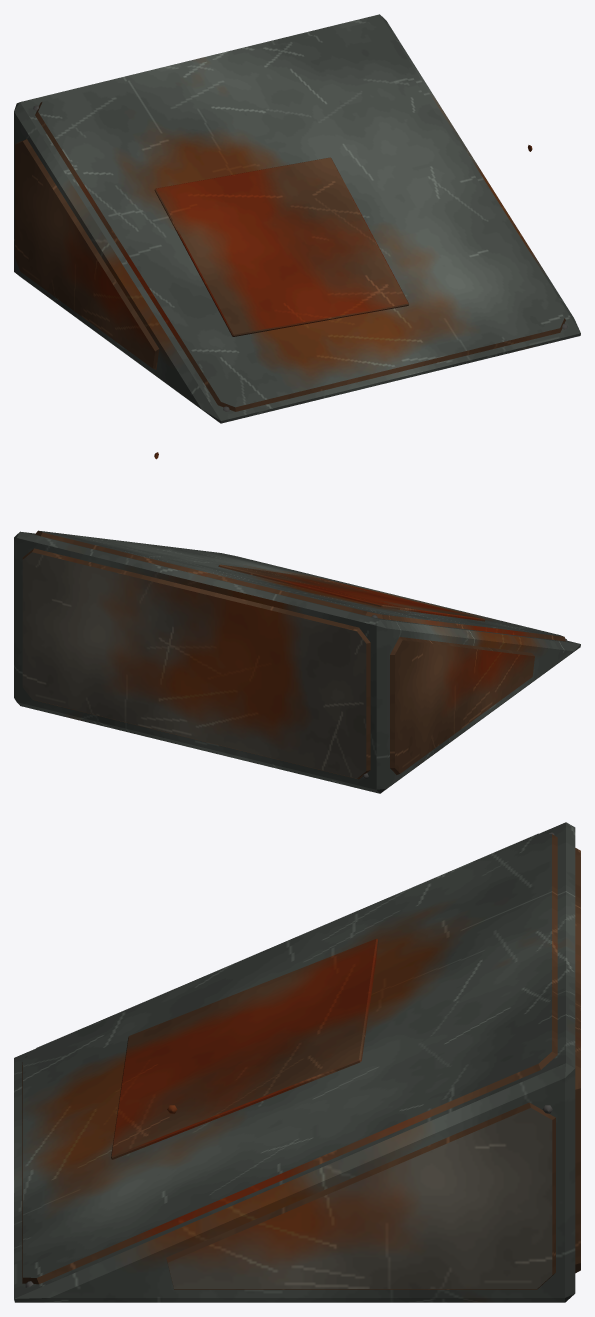
File: R4B_HalfWedge.glb
The picture shows the model from 3 angles, top to bottom: view 1: azimuth 30°, elevation 25°; view 2: azimuth 150°, elevation 25°; view 3: azimuth 270°, elevation 25°; orthographic projection. The views are drawn at different scales.
Visible parts, largest first — view 1: R4B_HalfWedge; view 2: R4B_HalfWedge; view 3: R4B_HalfWedge.
Boxes of the visible parts, x1=… form: R4B_HalfWedge: x1=14, y1=14, x2=580, y2=423; R4B_HalfWedge: x1=14, y1=452, x2=580, y2=793; R4B_HalfWedge: x1=14, y1=822, x2=580, y2=1302.
Bounding box in the file's own units: 0.52 × 0.2334 × 0.4898.
4 materials, 4 textured.
